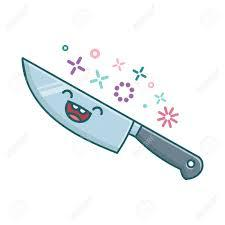Knife: (21, 56, 203, 180)
